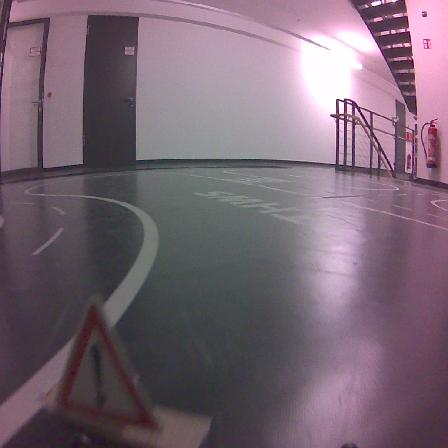ATTENTION: (57, 303, 157, 429)
